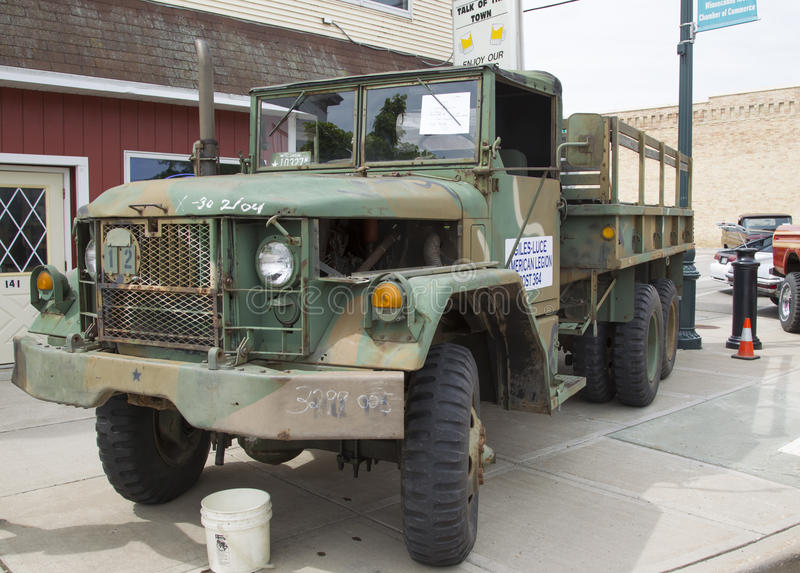camion: (26, 75, 678, 545)
